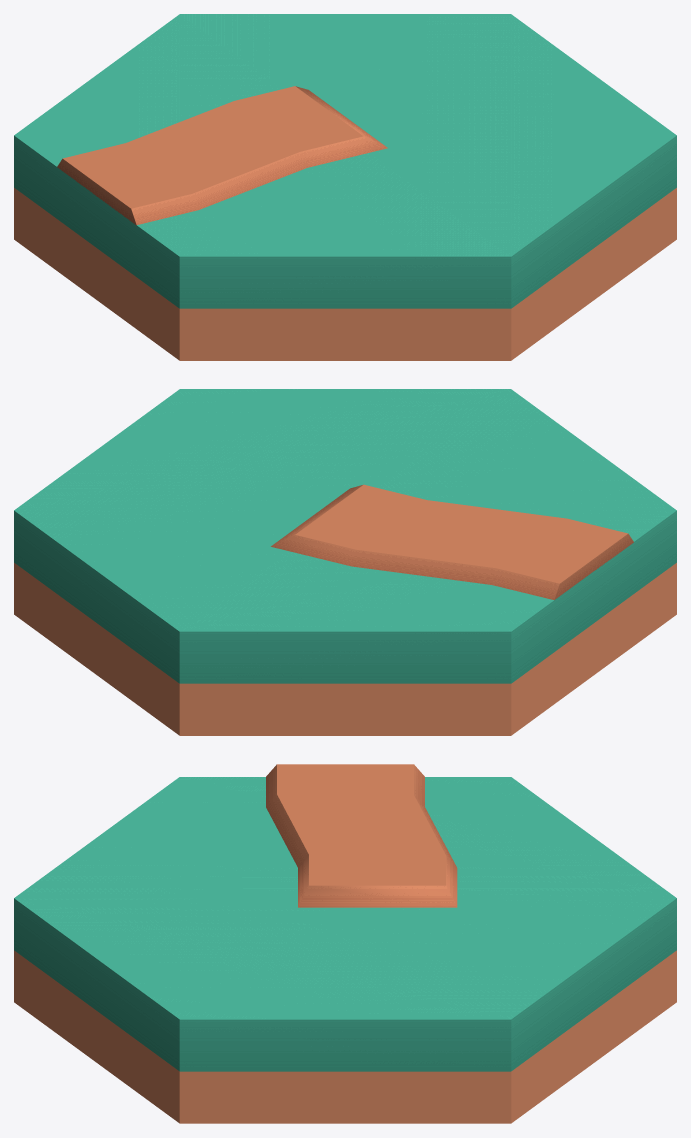
File: grass-path-end.glb
3 renders of one model, top to bottom at view 1: azimuth 30°, elevation 25°; view 2: azimuth 150°, elevation 25°; view 3: azimuth 270°, elevation 25°, orthographic.
Visible parts, largest first — view 1: grass, path-end; view 2: grass, path-end; view 3: grass, path-end.
Boxes of the visible parts, x1,y1,x2,y2 form: grass: [14, 14, 676, 360]; path-end: [57, 86, 387, 225]; grass: [14, 389, 676, 735]; path-end: [271, 484, 633, 599]; grass: [14, 777, 676, 1123]; path-end: [266, 764, 457, 907].
Bounding box in the file's own units: 1 × 0.224 × 1.15.
1 material, 1 textured.
